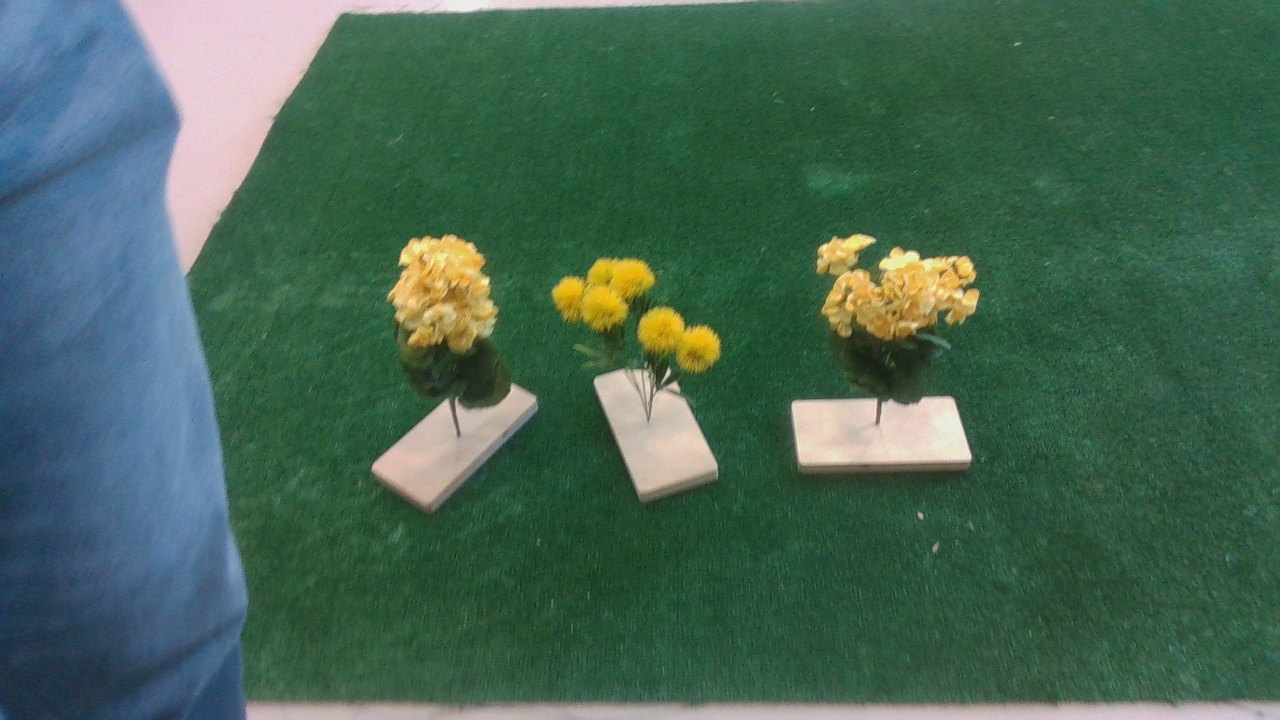dandelion: (551, 256, 733, 383)
geranium: (808, 218, 991, 402), (381, 231, 523, 416)
